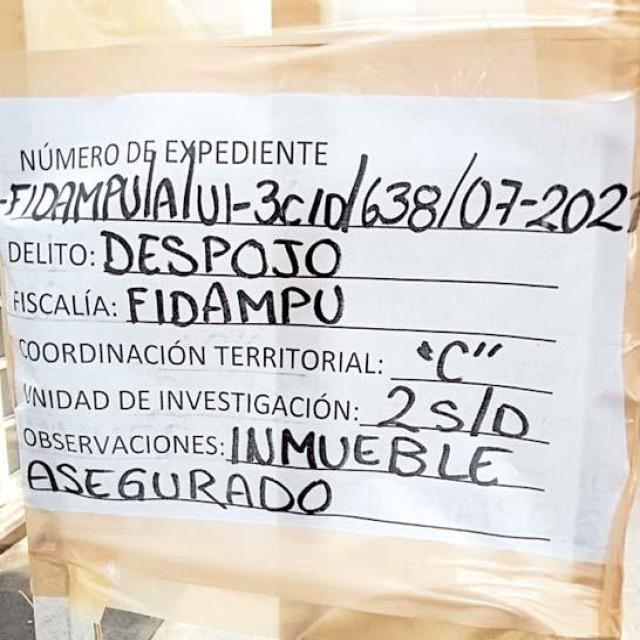stamps: (1, 96, 634, 570)
